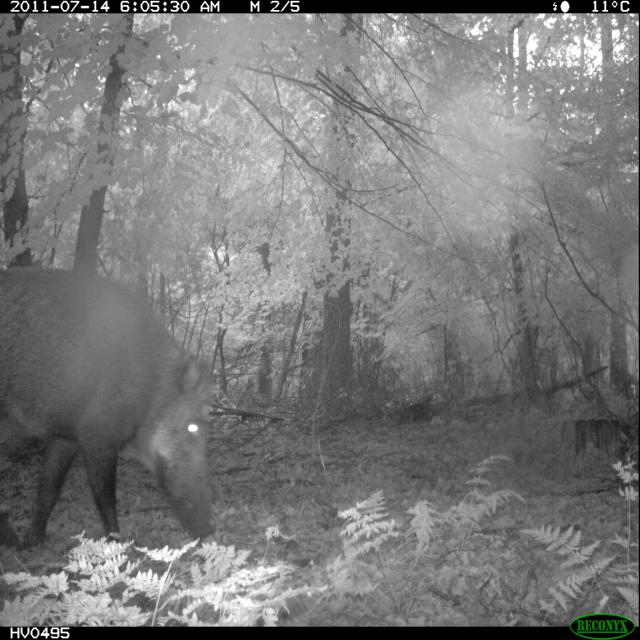boar: (0, 247, 230, 572)
